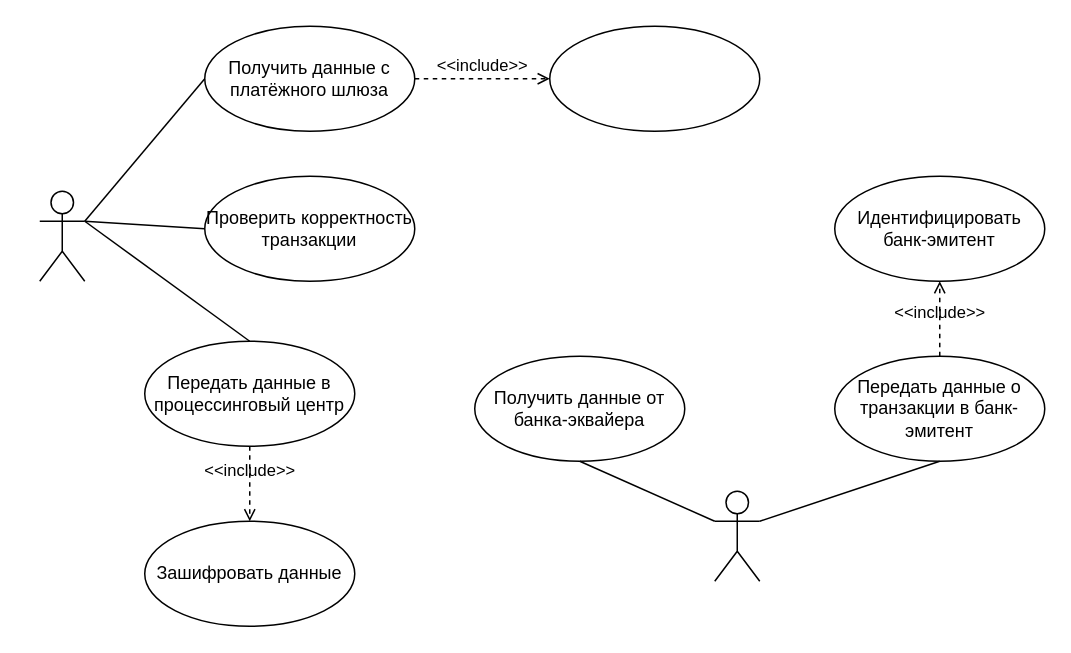
The diagram is 1071 pixels wide and 653 high, and some of its shapes have lost their labels. Each missing label, with the centre of its shape:
"Процессинговый центр" belongs at point 736,535.
"Система" belongs at point 61,235.
"Хранить логи по транзакциям" belongs at point 654,78.
